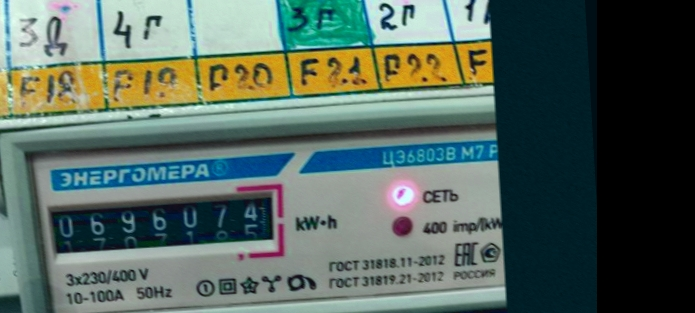0: (54, 211, 74, 237), (181, 201, 198, 228)
4: (241, 197, 259, 222)
5: (243, 221, 259, 239)
6: (87, 207, 107, 235), (149, 205, 167, 230)
7: (210, 200, 229, 227)
9: (117, 207, 137, 233)
screen: (35, 177, 291, 272)
